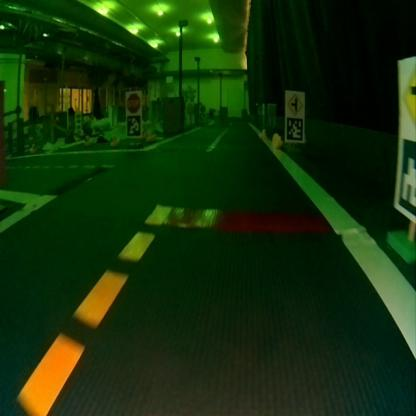Duckie: (271, 132, 280, 148)
Intersection sign: (399, 60, 415, 134), (287, 92, 303, 114)
QR code: (397, 136, 415, 214), (286, 116, 303, 140), (126, 114, 140, 136)
Stop sign: (126, 93, 140, 111)
